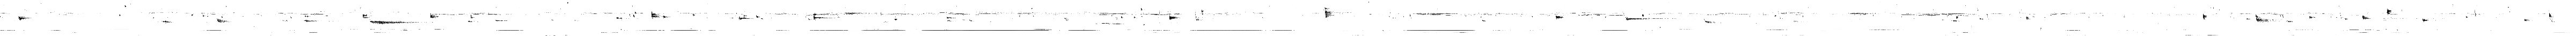meteor: (370, 21, 416, 25), (1324, 8, 1339, 18), (813, 15, 835, 21), (2256, 15, 2269, 23), (217, 18, 230, 23), (1704, 18, 1717, 23), (18, 16, 30, 21), (1168, 15, 1180, 20), (651, 11, 659, 18), (1626, 18, 1659, 20), (1556, 15, 1564, 20), (662, 15, 670, 18), (2362, 15, 2371, 18)
